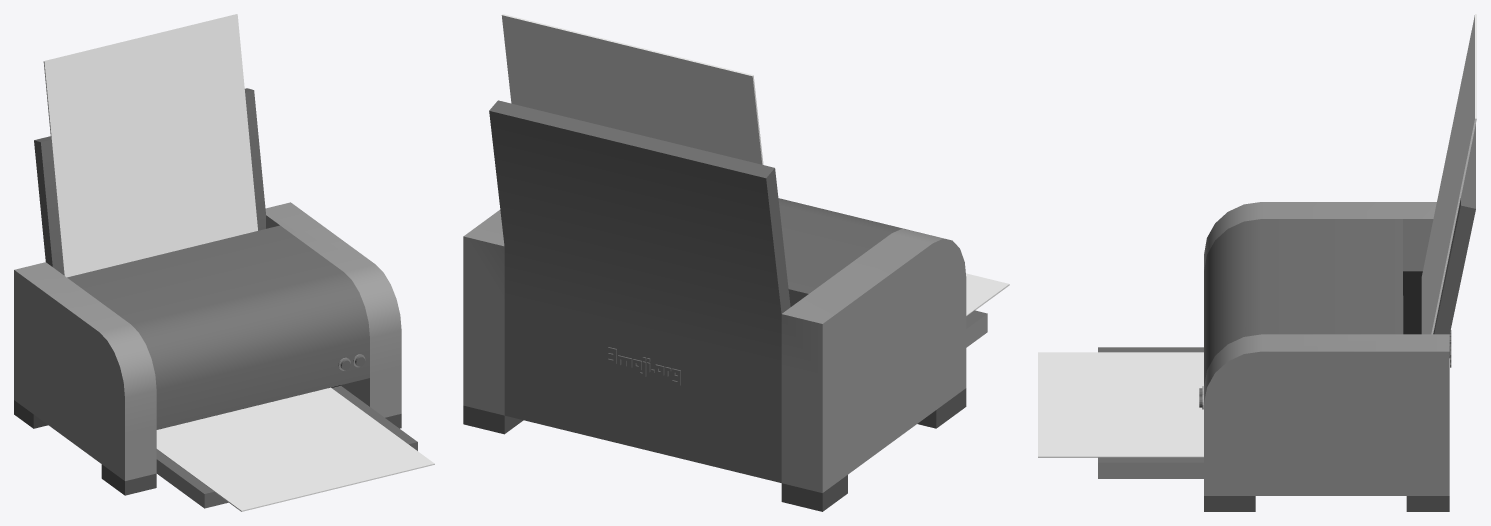
Rendered from printer.fbx.
3 views of the same model, side by side, from view 1: azimuth 30°, elevation 25°; view 2: azimuth 150°, elevation 25°; view 3: azimuth 270°, elevation 25° (orthographic). The views are drawn at different scales.
Parts seen in each view (by area): view 1: Cube.926; view 2: Cube.926; view 3: Cube.926.
Boxes of the visible parts, left/top/right/bottom form: Cube.926: left=14, top=14, right=434, bottom=511; Cube.926: left=463, top=14, right=1009, bottom=511; Cube.926: left=1038, top=14, right=1476, bottom=511.
Bounding box in the file's own units: 200 × 231 × 248.
1 material, 1 textured.
